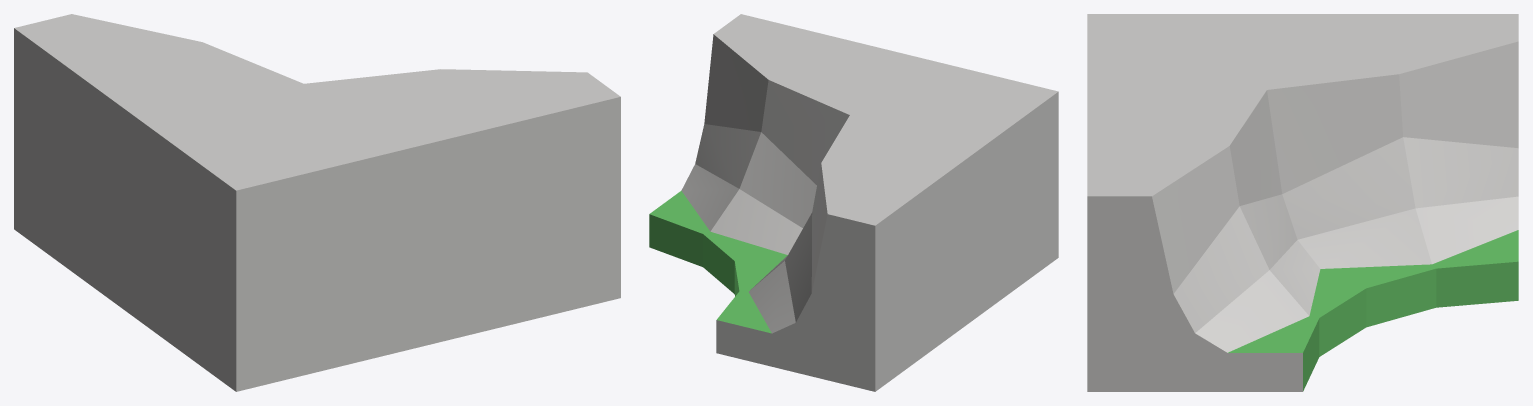
The model's file is Cliff_Base_Corner_Inner_Lg.glb.
3 views of the same model, side by side, from view 1: azimuth 30°, elevation 25°; view 2: azimuth 150°, elevation 25°; view 3: azimuth 270°, elevation 25° (orthographic). The views are drawn at different scales.
Visible parts, largest first — view 1: object1; view 2: object1; view 3: object1.
Boxes of the visible parts, x1=… form: object1: x1=14, y1=14, x2=620, y2=391; object1: x1=649, y1=14, x2=1058, y2=391; object1: x1=1087, y1=14, x2=1518, y2=391.
Bounding box in the file's own units: 2 × 1 × 2.
